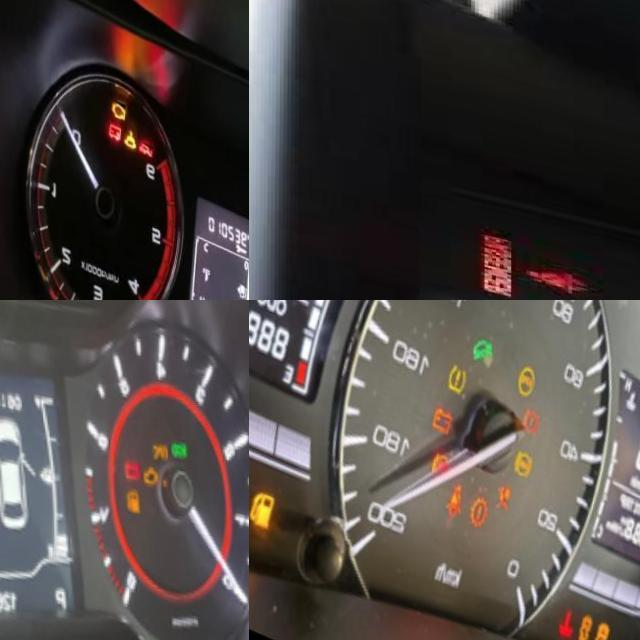Engine cooling system: (555, 583, 580, 625)
Low fuel level: (249, 472, 281, 535)
Seat Belt: (527, 244, 590, 281)
